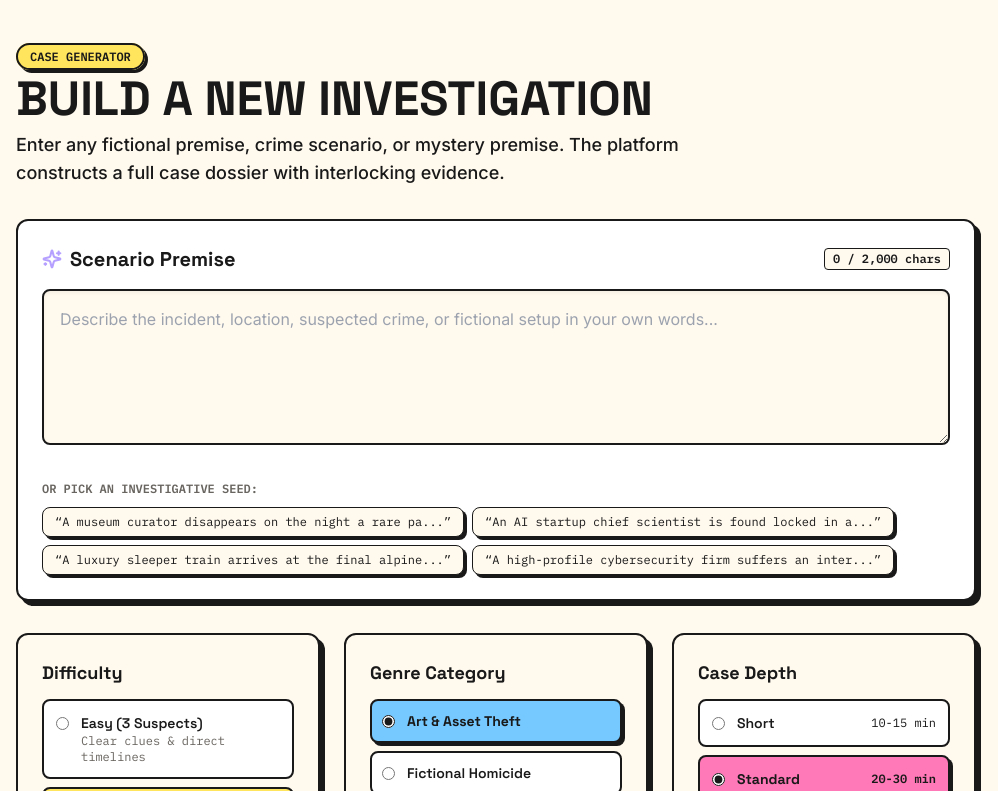
it: CreateMysteryPage Generation Pipeline Integration › displays clear user-facing error and retry button when AI generation fails
Replace the text in the text box labelled "Scenario Premise" with "A prototype drone disappeared from Hangar 4 during an unmonitored test flight" at (496,367), box [42,289,950,445]
(page scrolled)
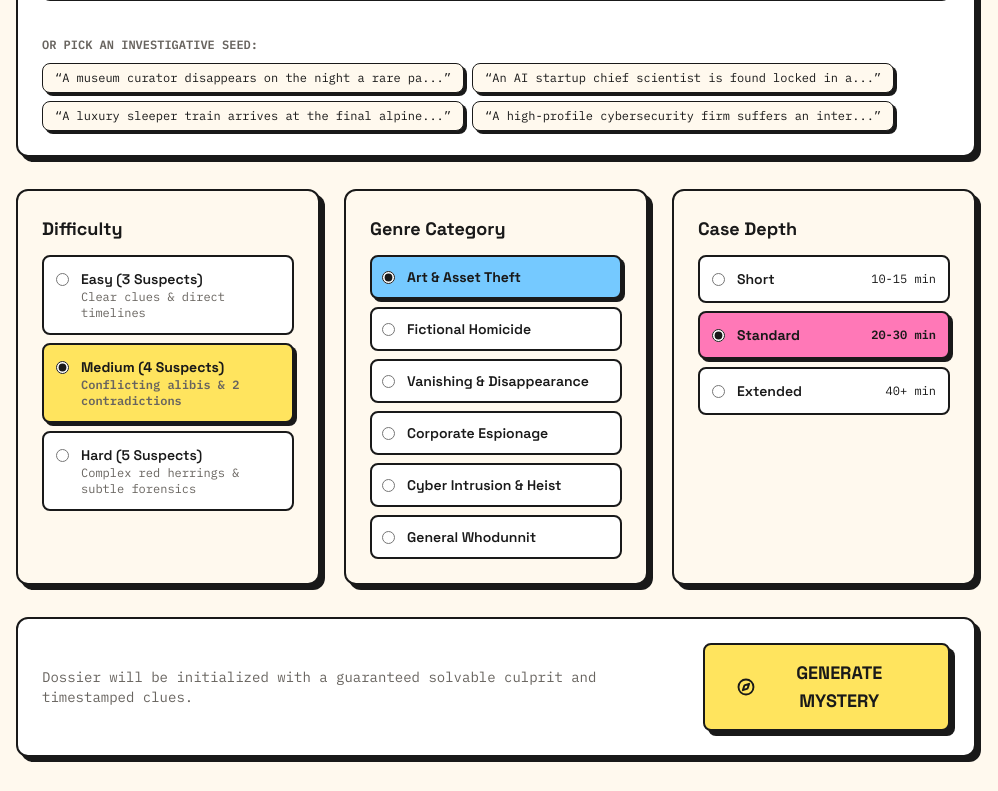
Click the button "GENERATE MYSTERY" at (826,687), box [702,643,950,731]
(page scrolled)
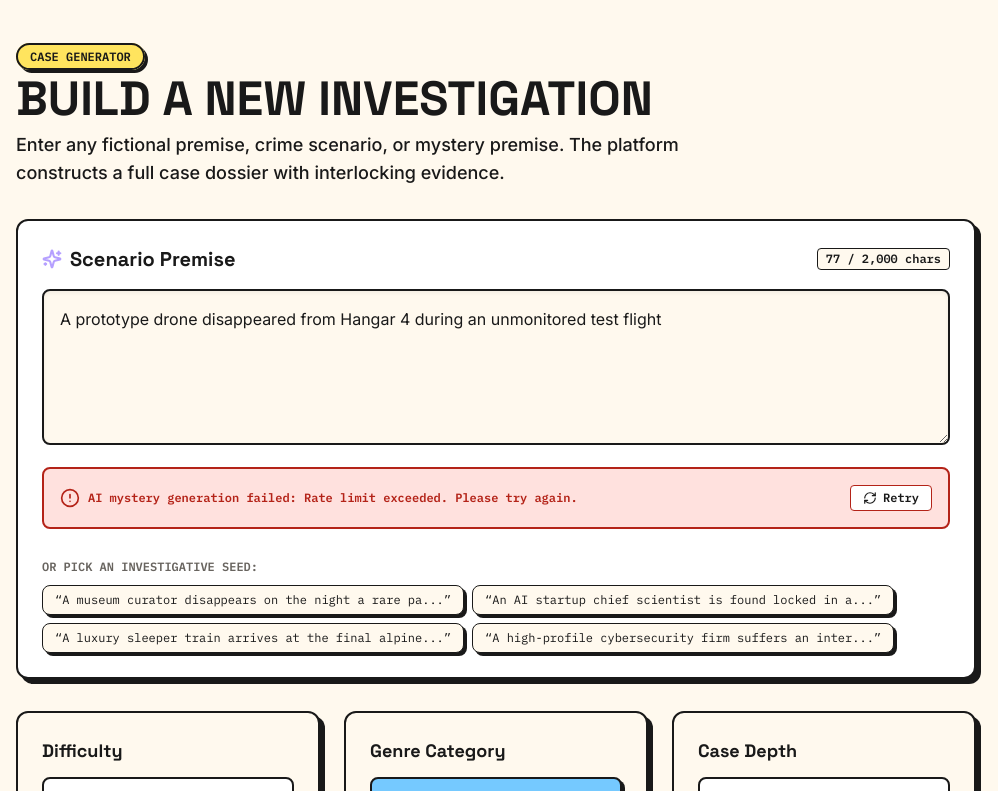
Check: the text "Rate limit exceeded" is shown, box [88,490,578,505]
Check: the button "Retry" is shown, box [850,485,932,511]
